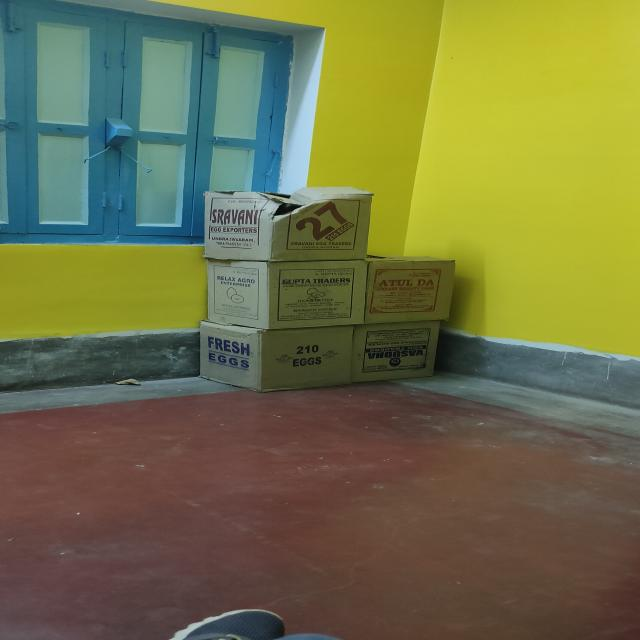squeeze: (216, 182, 345, 224)
